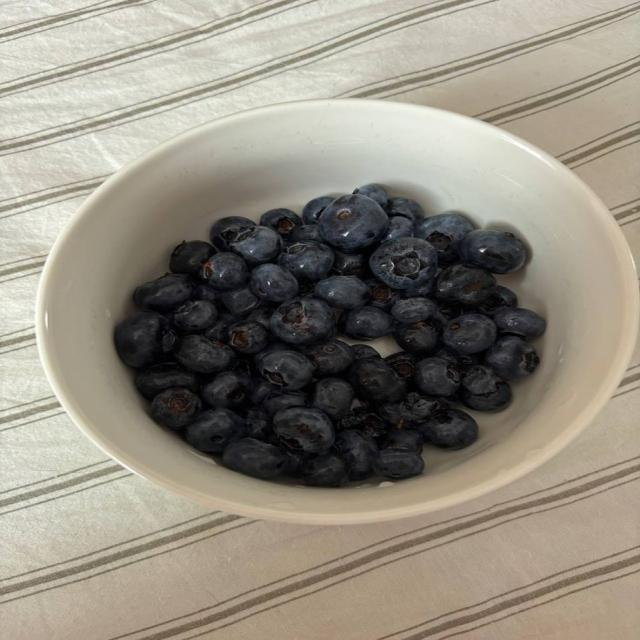blueberry: (319, 195, 388, 251), (370, 238, 437, 289), (270, 298, 334, 345), (459, 230, 526, 274), (415, 213, 475, 262), (115, 311, 167, 367), (274, 407, 334, 452), (185, 408, 246, 452), (223, 438, 285, 478), (350, 359, 406, 403), (436, 265, 496, 306), (379, 393, 449, 428), (175, 335, 236, 373), (486, 336, 539, 379), (136, 363, 199, 399), (419, 410, 478, 448), (442, 314, 497, 354), (257, 351, 313, 390), (335, 430, 378, 480), (229, 226, 282, 266), (150, 388, 201, 429), (278, 242, 333, 280), (134, 275, 193, 310), (200, 372, 253, 408), (339, 306, 394, 339), (314, 276, 369, 309), (305, 340, 354, 377), (311, 378, 354, 420), (251, 264, 298, 302), (414, 357, 459, 396), (201, 253, 248, 290), (400, 393, 449, 426), (459, 380, 511, 411), (301, 453, 348, 487), (493, 308, 546, 338), (394, 321, 439, 356), (210, 216, 254, 251), (374, 449, 424, 479), (170, 241, 215, 274), (173, 300, 218, 332), (228, 321, 269, 354), (436, 348, 483, 375), (263, 389, 308, 417), (478, 285, 518, 316), (391, 297, 437, 323), (260, 209, 301, 238), (221, 287, 260, 316), (461, 365, 497, 394), (367, 278, 399, 310), (332, 250, 368, 278), (254, 342, 290, 370), (402, 270, 439, 297), (353, 413, 388, 441), (387, 198, 424, 224), (384, 429, 422, 454), (203, 312, 235, 341), (432, 303, 467, 329), (302, 196, 333, 225), (245, 408, 273, 440), (385, 352, 418, 379), (381, 216, 413, 242), (354, 184, 388, 208), (281, 449, 307, 477), (287, 224, 322, 243), (251, 378, 273, 407), (377, 403, 403, 427), (247, 307, 273, 330), (192, 282, 219, 304), (352, 344, 380, 360), (161, 329, 178, 354), (350, 398, 370, 415), (299, 280, 314, 297)
